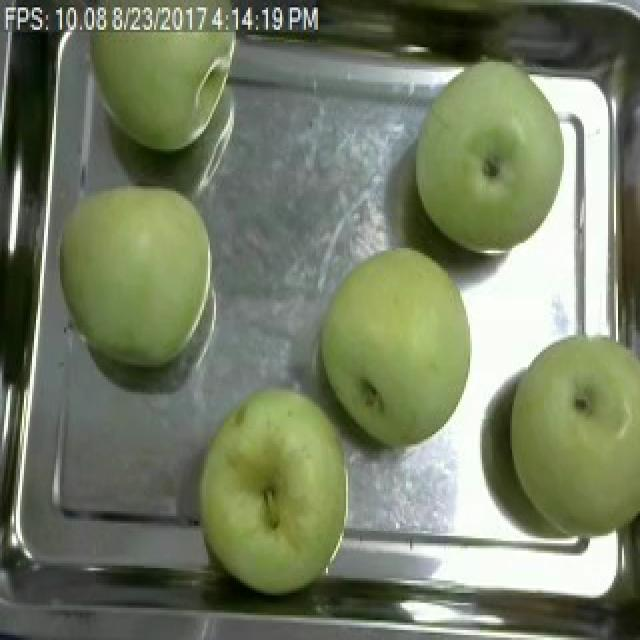50-_ripeness: (54, 168, 224, 416), (316, 238, 489, 454), (192, 376, 352, 590), (409, 63, 585, 257), (507, 334, 640, 544)
